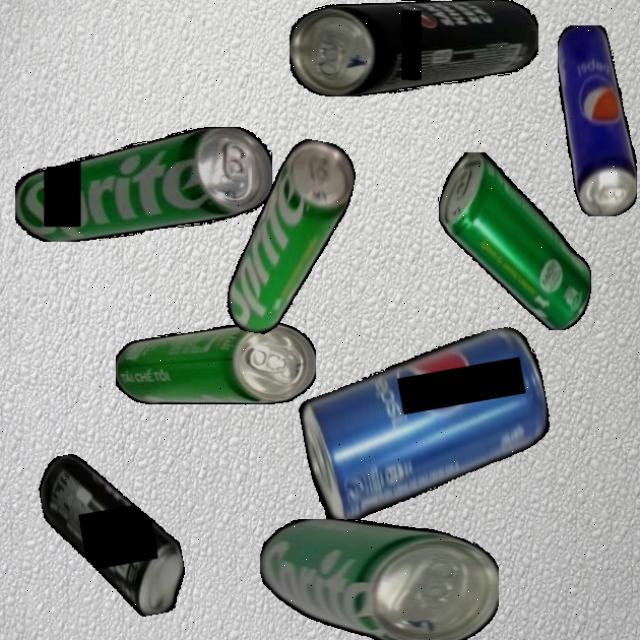debris: (292, 323, 560, 526), (35, 439, 191, 630), (14, 127, 272, 242), (222, 131, 360, 344), (259, 519, 499, 640), (437, 152, 591, 330), (290, 0, 538, 97), (115, 323, 316, 404), (557, 25, 637, 216)
